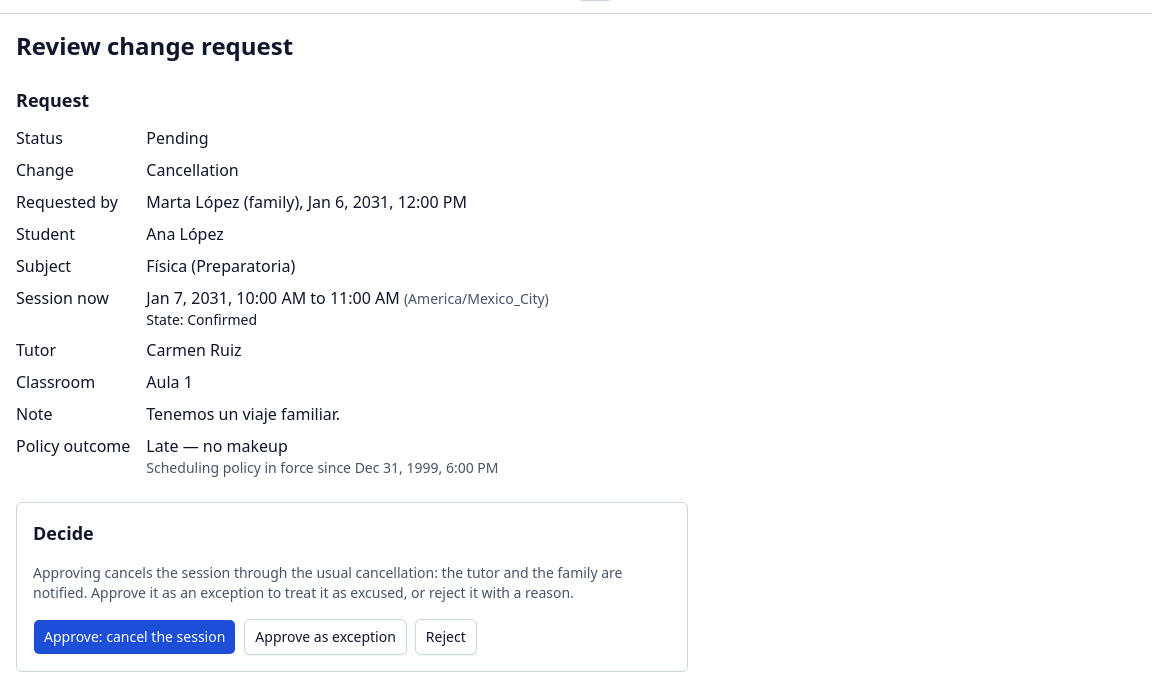
/schedule/change-requests/:id › approves a cancellation and moves the focus to the decision
The image size is (1152, 688).
(page scrolled)
Click the button "Approve: cancel the session" at point(135, 637), box [33,619,236,655]
(page scrolled)
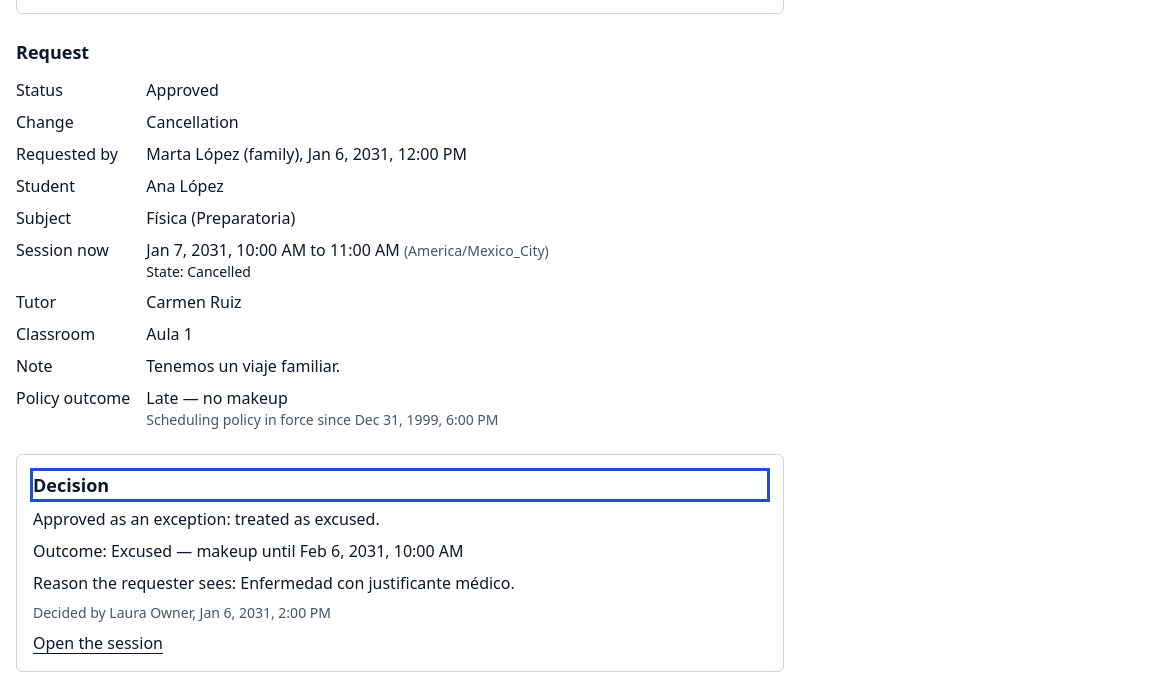
Check: the heading "Decision" is shown, box [33,471,767,499]
